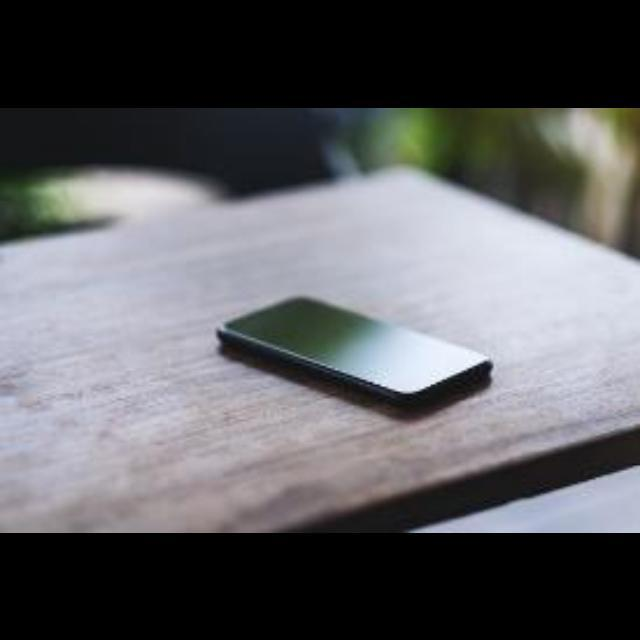PhoneUse: (215, 294, 510, 432)
